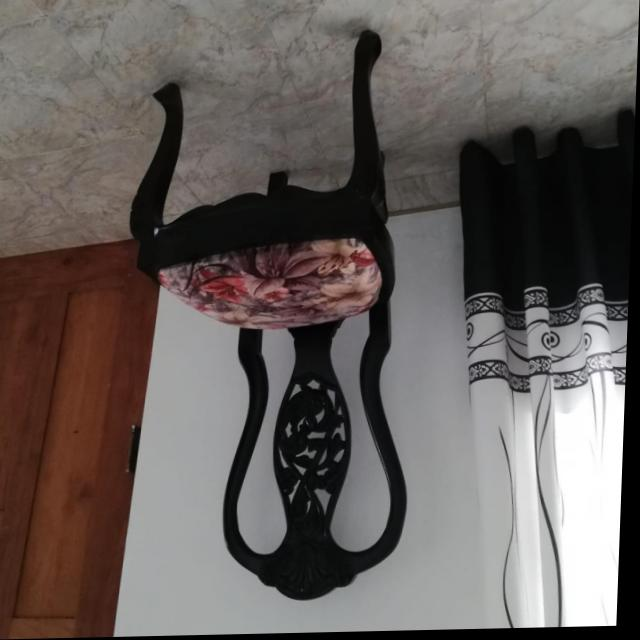Chair: (121, 30, 429, 605)
